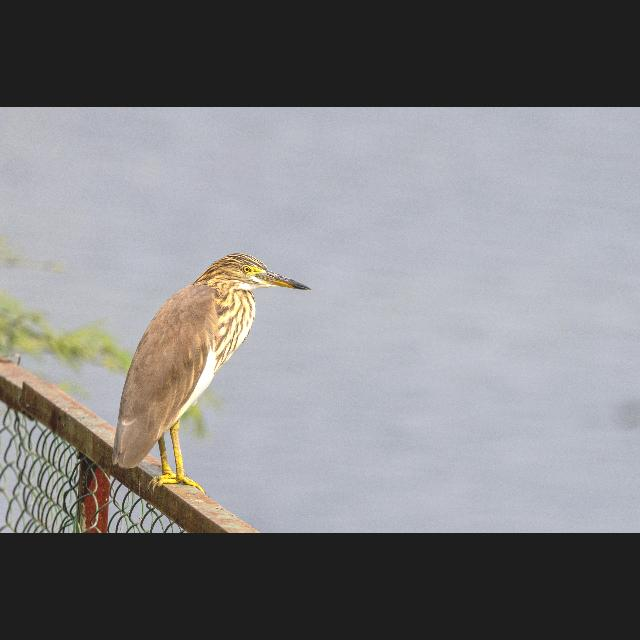heron: (108, 247, 320, 499)
